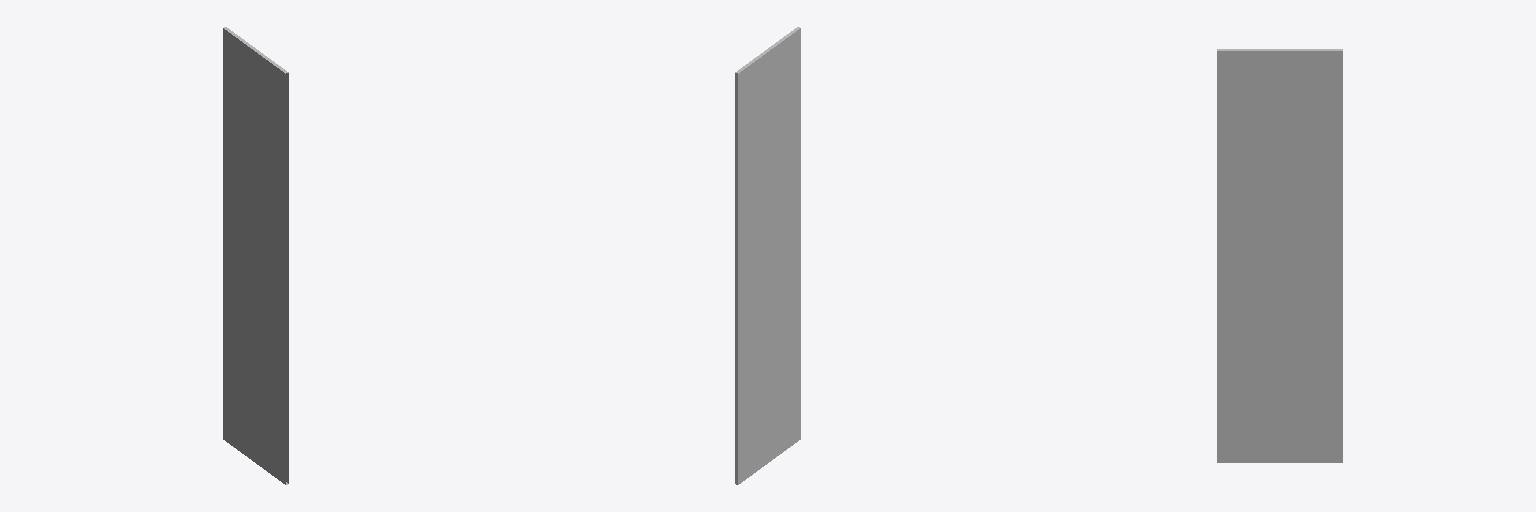
Rendered from original-7.obj.
The picture shows the model from 3 angles: view 1: azimuth 30°, elevation 25°; view 2: azimuth 150°, elevation 25°; view 3: azimuth 270°, elevation 25°; orthographic projection.
Parts seen in each view (by area): view 1: mesh4/mesh4-geometry#mesh4-geometry; view 2: mesh4/mesh4-geometry#mesh4-geometry; view 3: mesh4/mesh4-geometry#mesh4-geometry.
Boxes of the visible parts, box(x1,y1,x2,y2) form: mesh4/mesh4-geometry#mesh4-geometry: box(223, 27, 288, 484); mesh4/mesh4-geometry#mesh4-geometry: box(735, 27, 800, 484); mesh4/mesh4-geometry#mesh4-geometry: box(1217, 49, 1342, 462).
Size of the model in its own units: 0.0154 by 1.7 by 0.4709.